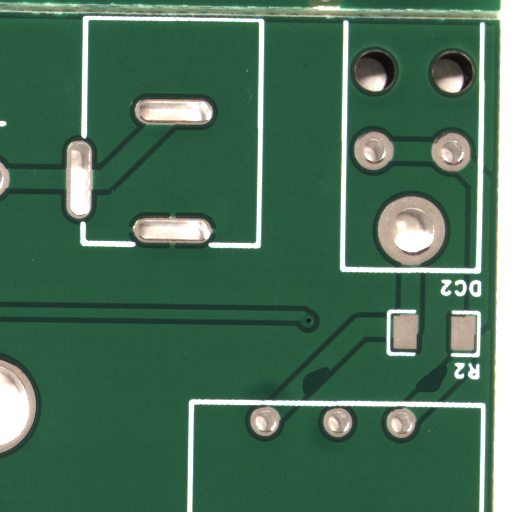Mouse_bite: (432, 378, 463, 408), (316, 381, 347, 409)
